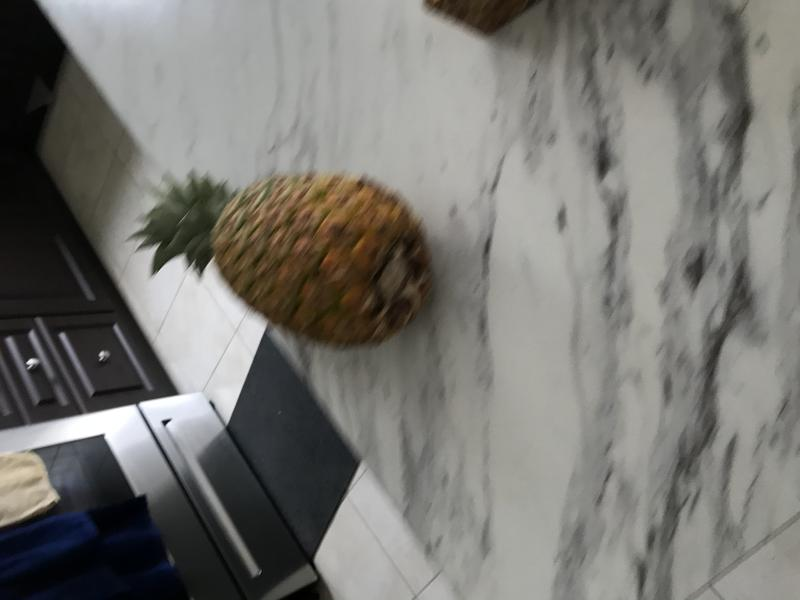pineapple: (121, 159, 442, 352)
